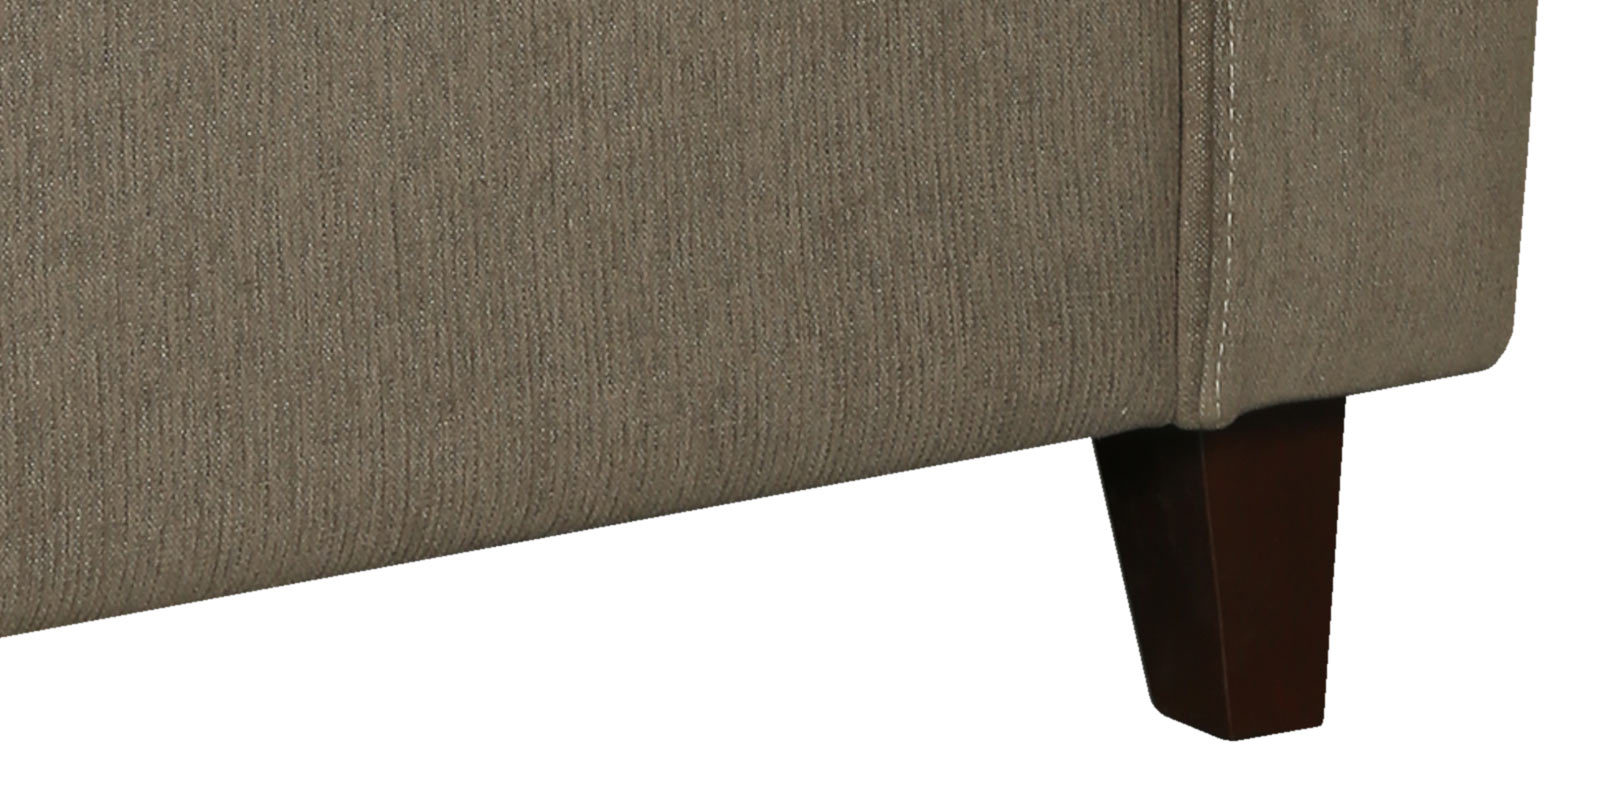Miranda Three Seater Sofa in Sandy Brown Colour by CasaCraft: (1, 3, 1538, 741)
